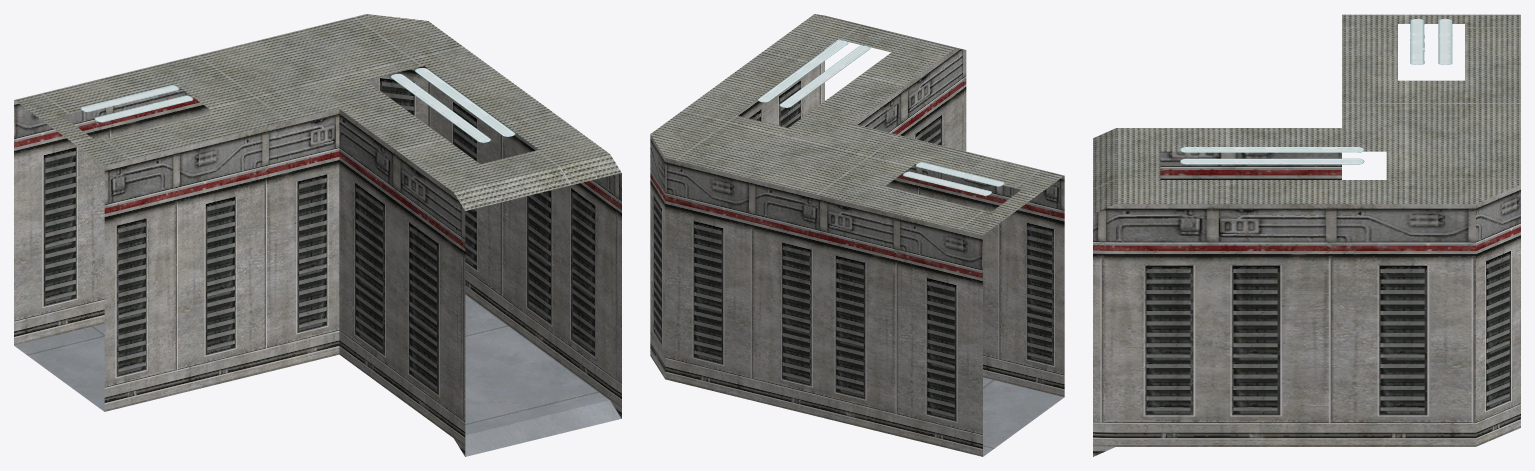
File: poi_all_rebl_bunker_s01_r1_entry_mesh_entry.fbx
3 views of the same model, side by side, from view 1: azimuth 30°, elevation 25°; view 2: azimuth 150°, elevation 25°; view 3: azimuth 270°, elevation 25° (orthographic). The views are drawn at different scales.
Visible parts, largest first — view 1: mesh_node; view 2: mesh_node; view 3: mesh_node.
Part boxes in pixels (box(x1,y1,x2,y2)): mesh_node: box(14, 14, 621, 456); mesh_node: box(650, 14, 1064, 456); mesh_node: box(1093, 14, 1520, 456).
Bounding box in the file's own units: 5 × 3.25 × 4.78.
